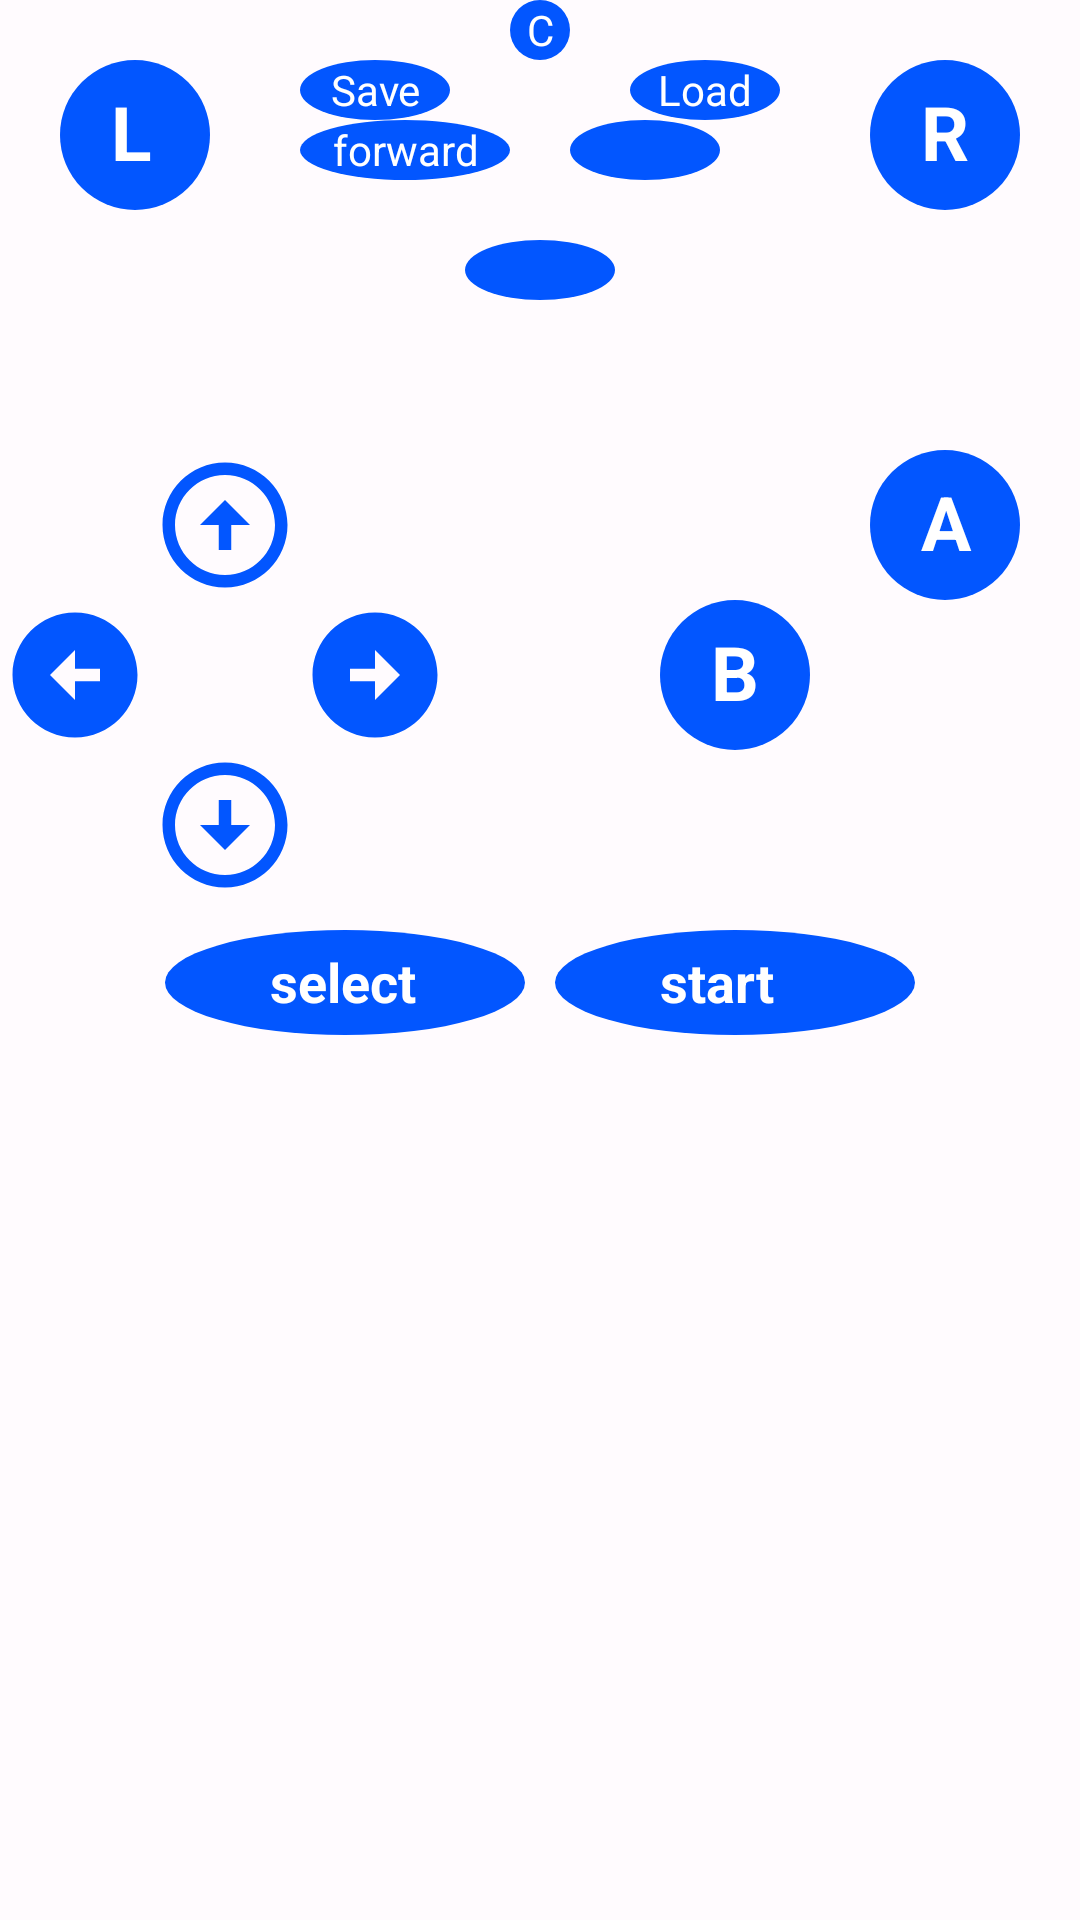

Icons on this 1080w x 1920h Android screen, each with the point to tap as (x=x, y=y):
arrow circle down: (x=225, y=825)
arrow circle left: (x=75, y=675)
arrow circle right: (x=375, y=675)
arrow circle up: (x=225, y=525)
